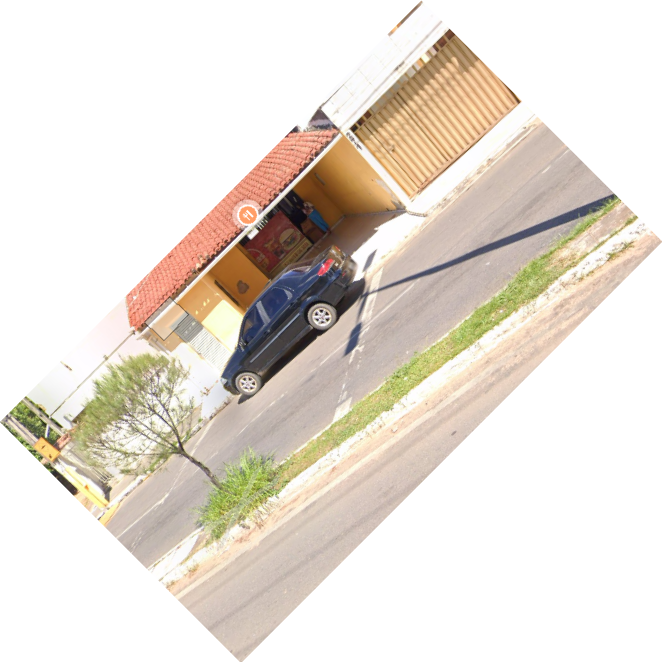car: (214, 242, 374, 408)
